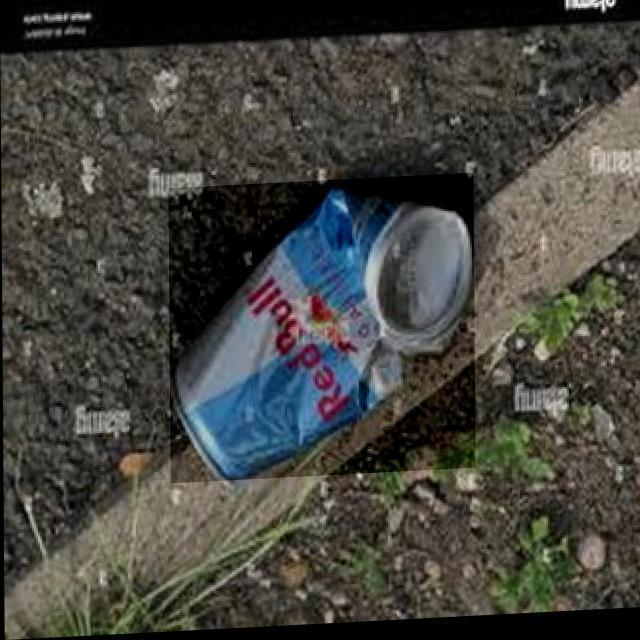trash: (169, 178, 475, 486)
